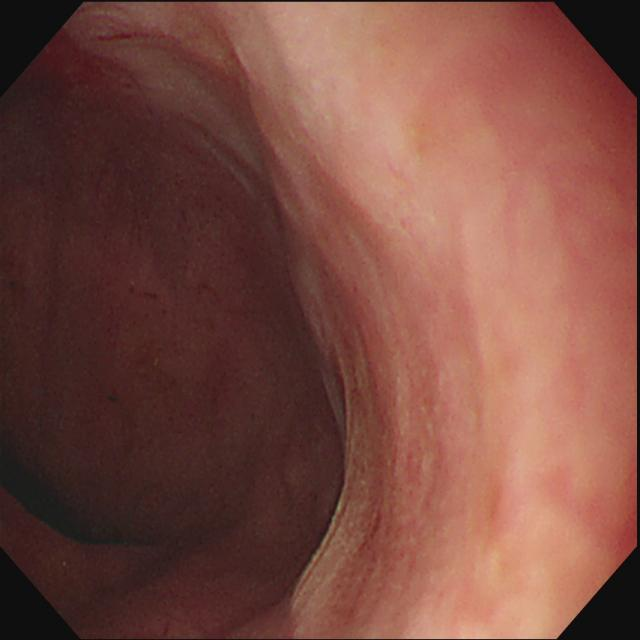A: (292, 327, 420, 612)
E: (2, 422, 155, 566)
